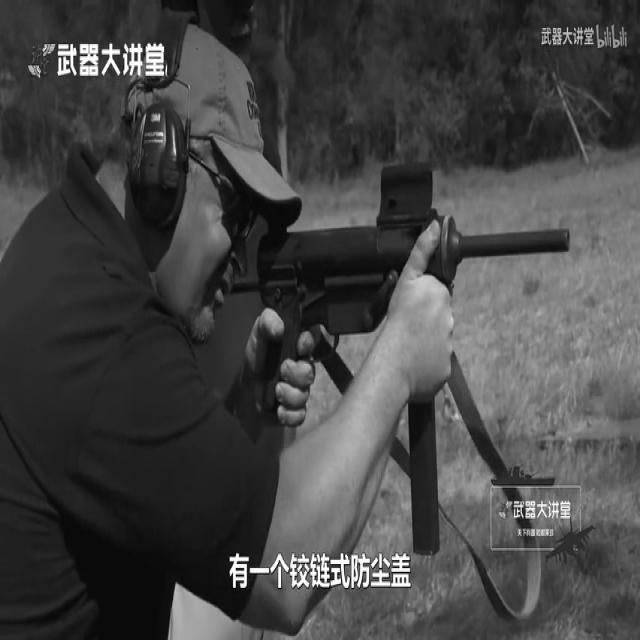Sub-machine-gun: (205, 92, 600, 589)
